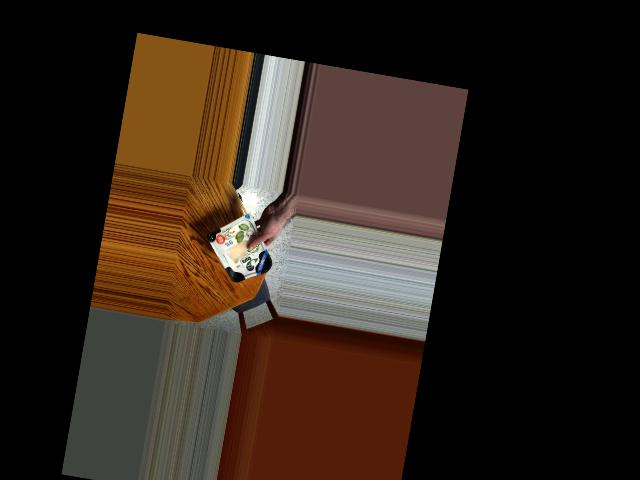cheese: (205, 219, 279, 288)
